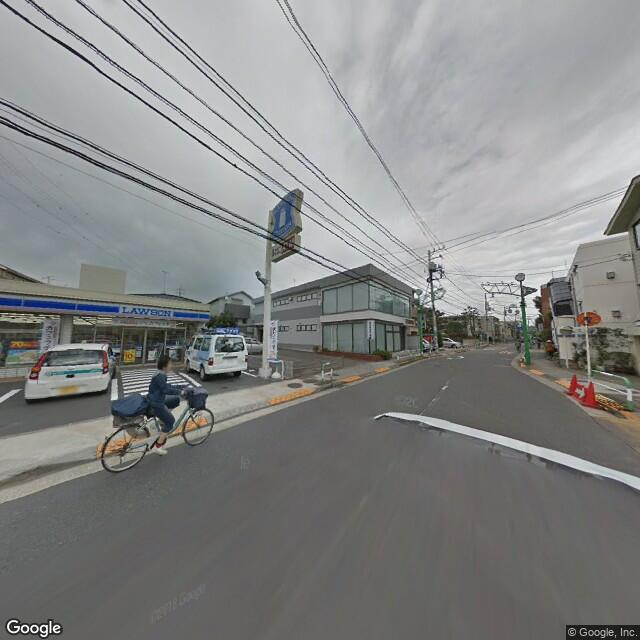lawson: (2, 288, 210, 326), (267, 185, 304, 243)
